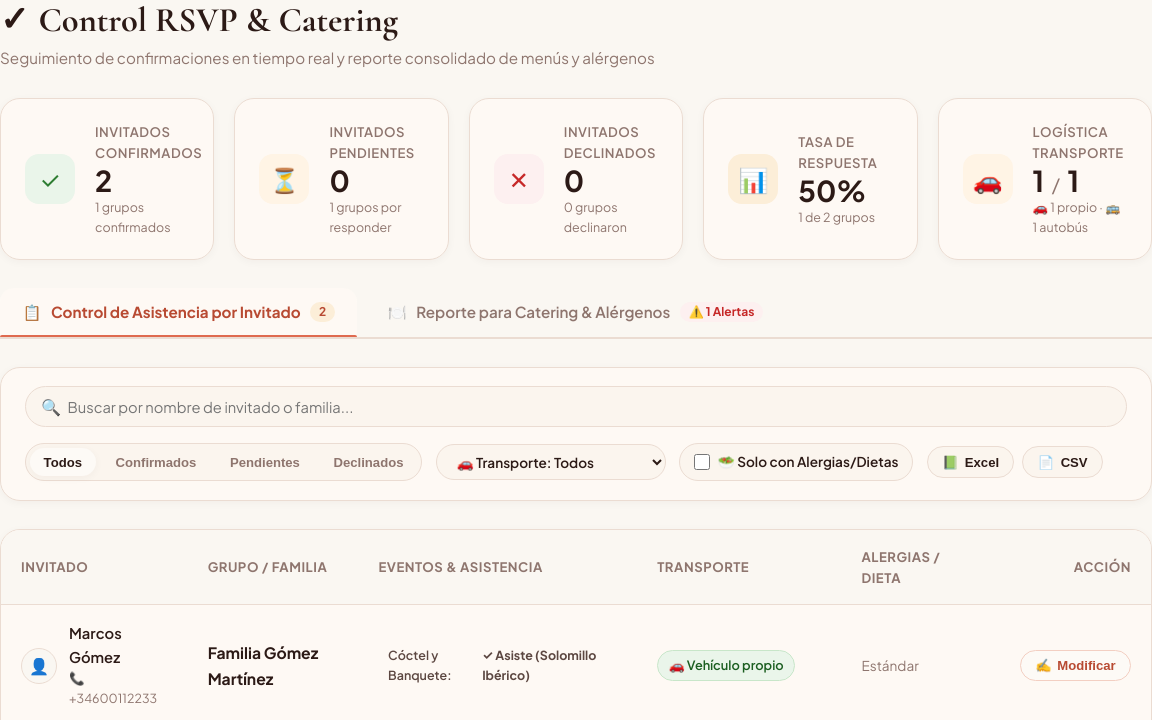
Test: AdminRsvpPage - Control RSVP & Exportación Catering › filtra los invitados según la opción de transporte seleccionada
This screenshot has width=1152, height=720.
Expected: the text "Marcos Gómez" is shown, [69,624,122,666]
// Filtrar por quienes tienen vehículo propio
Select "🚗 Con vehículo propio (1)" in the dropdown named "Filtrar por disponibilidad de transporte". click: (551, 462)
box: [436,444,666,480]
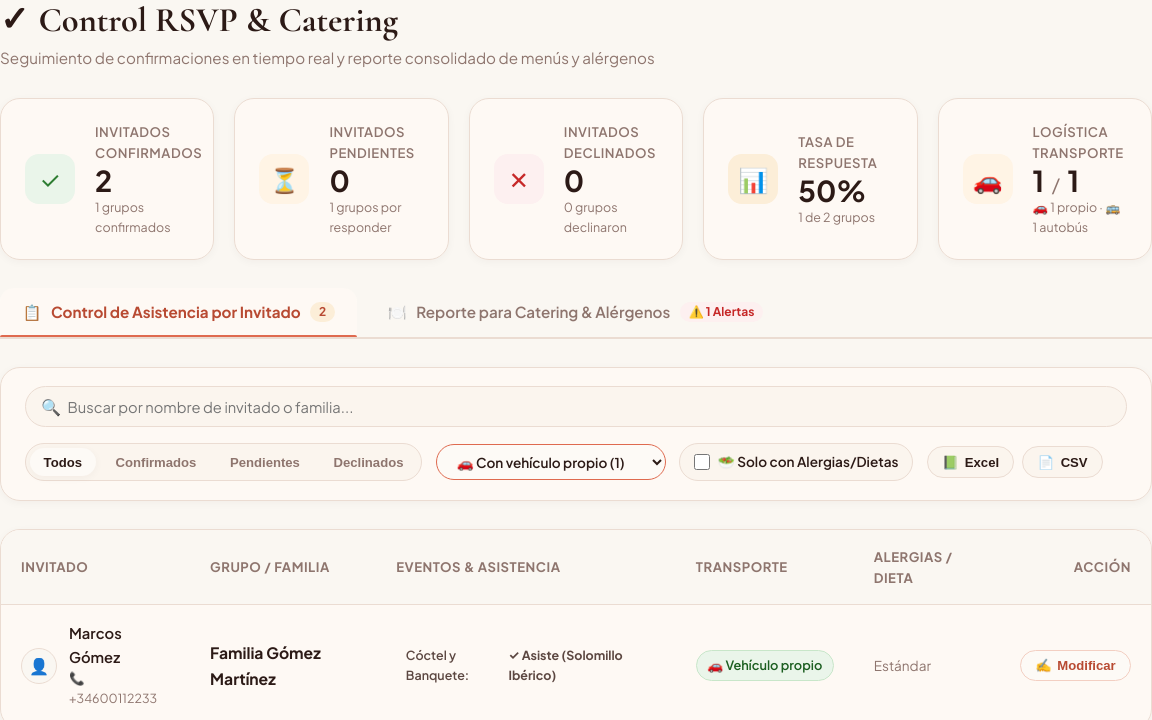
Expected: the text "Marcos Gómez" is shown, [69,624,122,666]
// Filtrar por quienes necesitan transporte
Select "🚌 Necesitan transporte (1)" in the dropdown named "Filtrar por disponibilidad de transporte". click: (551, 462)
box: [436,444,666,480]
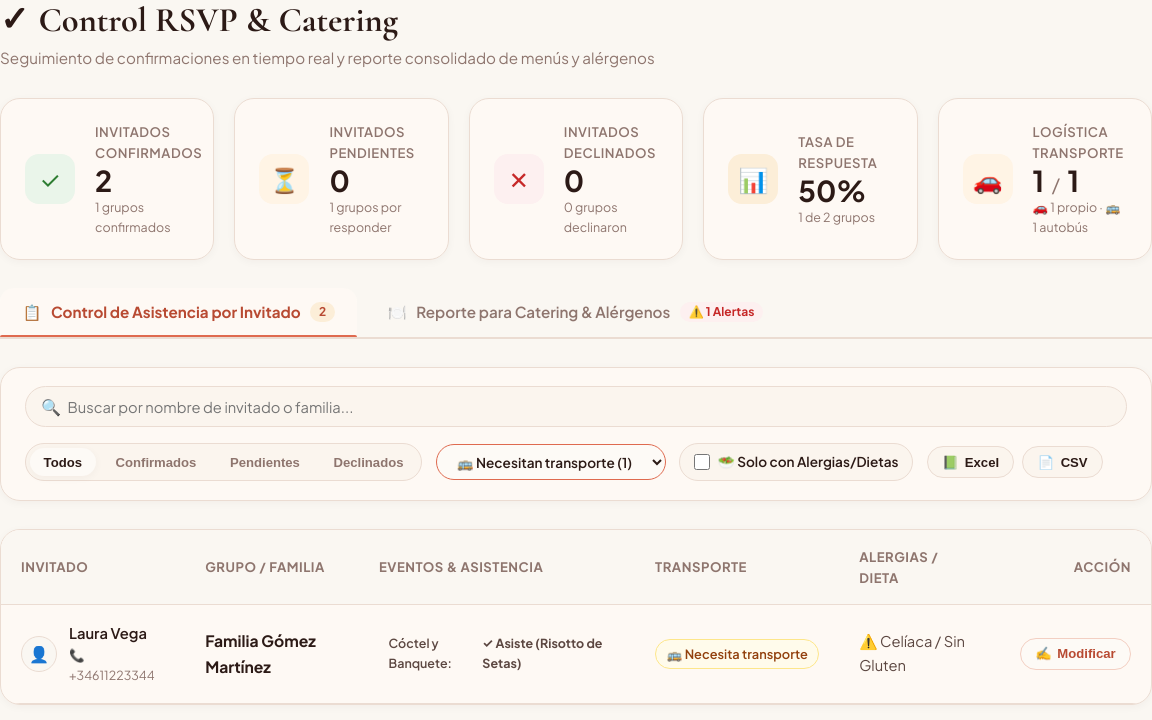
Expected: the text "Marcos Gómez" is gone
Expected: the text "Laura Vega" is shown, [69,624,147,642]
